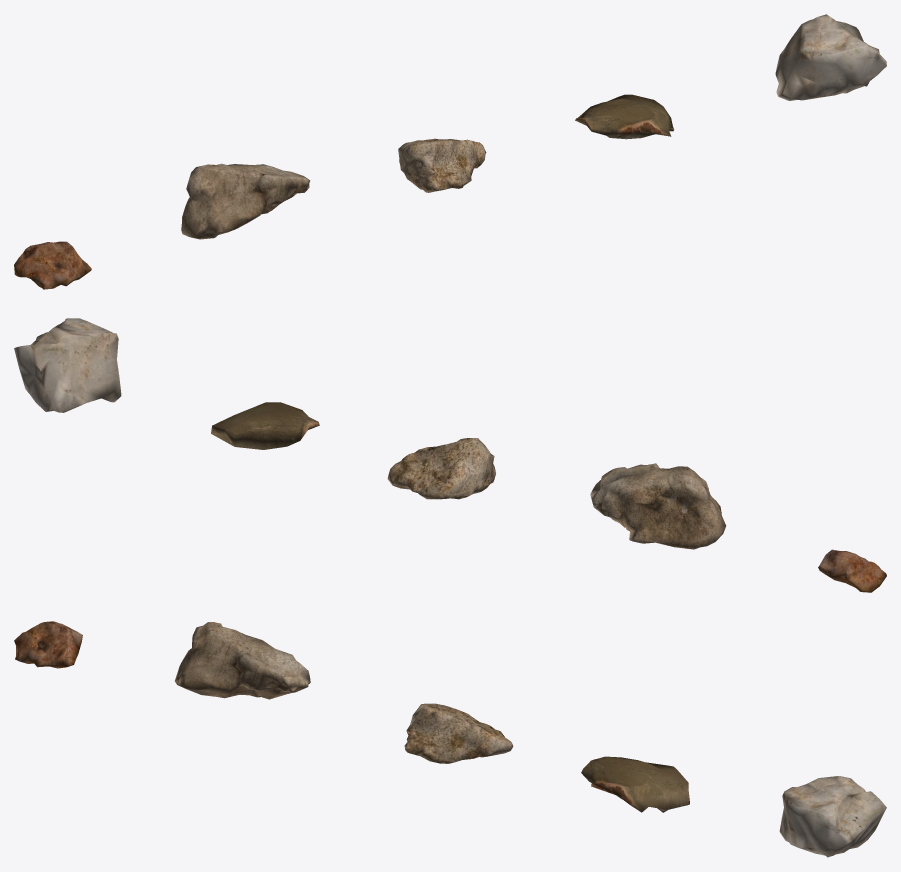
File: namaqualand_stones_01.glb
3 renders of one model, top to bottom at view 1: azimuth 30°, elevation 25°; view 2: azimuth 150°, elevation 25°; view 3: azimuth 330°, elevation 25°, orthographic.
Parts seen in each view (by area): view 1: namaqualand_stones_01_a; view 2: namaqualand_stones_01_a; view 3: namaqualand_stones_01_a.
Boxes of the visible parts, x1,y1,x2,y2 form: namaqualand_stones_01_a: (14, 14, 886, 289); namaqualand_stones_01_a: (14, 318, 886, 592); namaqualand_stones_01_a: (14, 621, 886, 857).
Size of the model in its own units: 1.02 by 0.0833 by 0.1119.
Materials: 1 (1 with a texture image).
